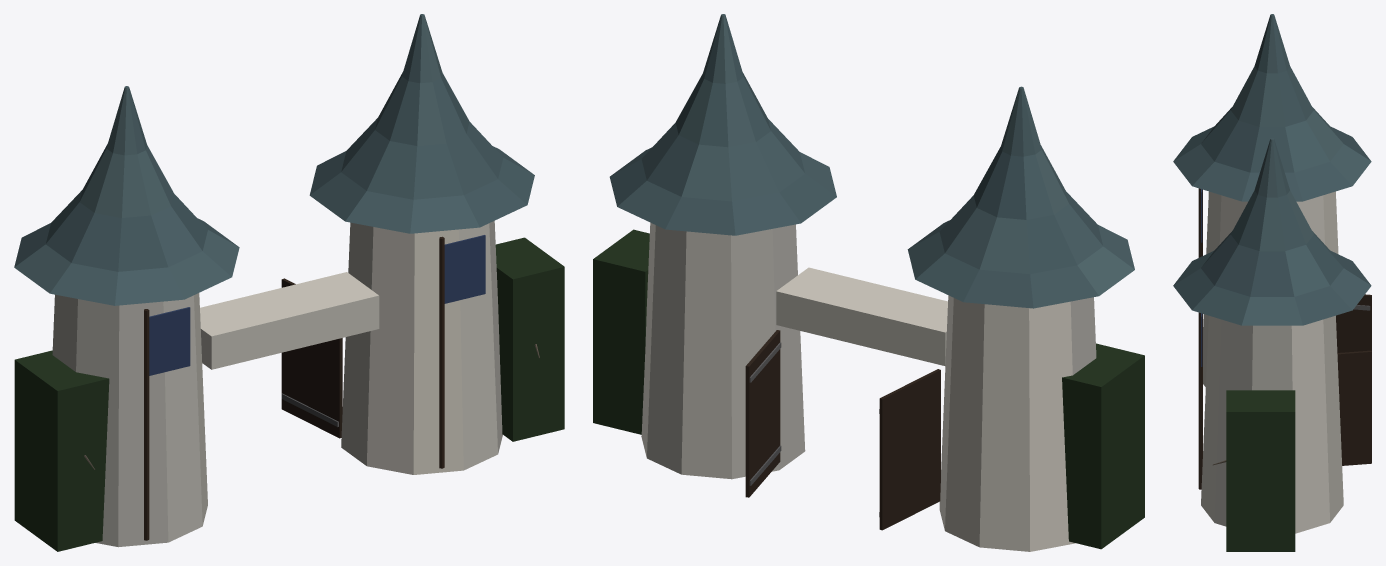
Rendered from walk_veiled_gate.glb.
3 renders of one model, left to right at view 1: azimuth 30°, elevation 25°; view 2: azimuth 150°, elevation 25°; view 3: azimuth 270°, elevation 25°, orthographic. The views are drawn at different scales.
Visible parts, largest first — view 1: walk_veiled_gate, walk_veiled_gate_roof, walk_veiled_gate_door1; view 2: walk_veiled_gate, walk_veiled_gate_roof, walk_veiled_gate_door0, walk_veiled_gate_door1; view 3: walk_veiled_gate, walk_veiled_gate_roof, walk_veiled_gate_door1, walk_veiled_gate_door0.
Boxes of the visible parts, x1,y1,x2,y2 form: walk_veiled_gate: (14,221,564,551); walk_veiled_gate_roof: (14,14,534,305); walk_veiled_gate_door1: (281,278,342,438); walk_veiled_gate: (593,222,1144,551); walk_veiled_gate_roof: (609,14,1134,308); walk_veiled_gate_door0: (879,369,940,530); walk_veiled_gate_door1: (745,330,781,497); walk_veiled_gate: (1198,188,1343,551); walk_veiled_gate_roof: (1173,14,1371,325); walk_veiled_gate_door1: (1337,350,1371,465); walk_veiled_gate_door0: (1336,294,1371,352).
Size of what is drawn, in the model's own units: 12.7 by 10.18 by 5.01.
Materials: 2 (2 with a texture image).
